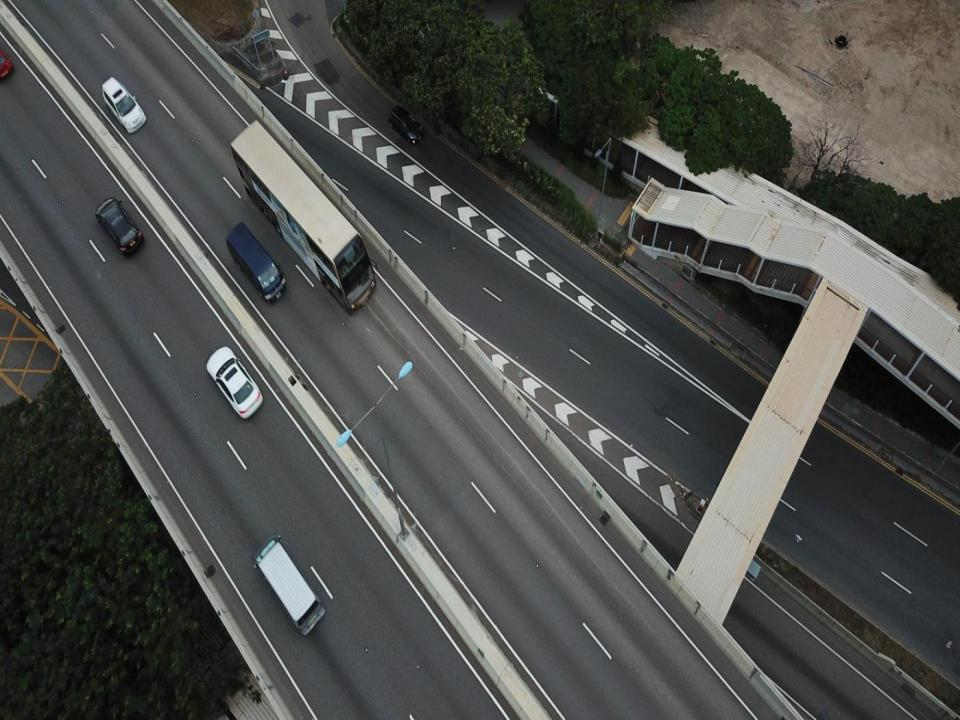bus: (232, 118, 376, 315)
car: (204, 341, 262, 419), (100, 74, 148, 138), (95, 194, 140, 256), (386, 102, 425, 148)
van: (249, 534, 328, 638), (226, 219, 290, 301)
